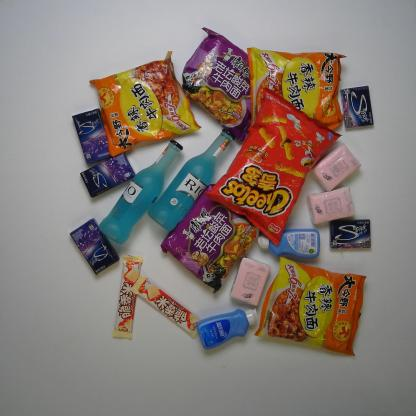Alcohol: (146, 128, 236, 232), (98, 138, 184, 246)
Chocolate: (128, 274, 204, 340), (111, 254, 144, 340)
Gum: (70, 217, 120, 276), (79, 151, 136, 199), (70, 108, 112, 164), (340, 84, 374, 130), (328, 217, 371, 251)
Instant Noodles: (89, 50, 202, 159), (253, 256, 368, 359), (159, 182, 263, 295), (247, 46, 347, 133), (181, 27, 252, 142)
Personal Hygiene: (195, 306, 259, 351), (257, 228, 321, 259)
Puffed Food: (203, 87, 344, 248)
Tissue: (310, 142, 362, 193), (228, 255, 272, 308), (306, 186, 356, 226)
